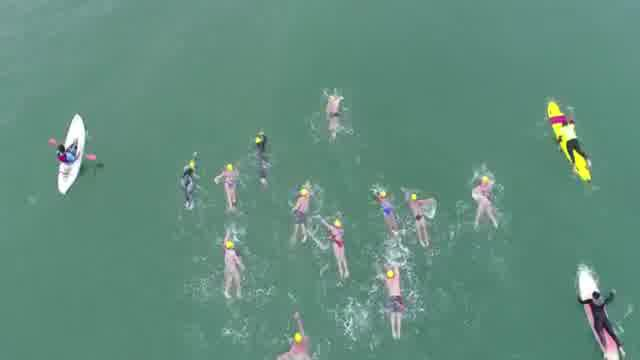swimmer: (381, 260, 408, 342), (326, 215, 356, 282), (212, 160, 244, 212), (223, 231, 244, 302), (177, 156, 208, 204), (283, 311, 314, 359), (374, 190, 402, 242), (290, 186, 312, 247), (474, 176, 499, 228), (410, 193, 432, 247), (321, 92, 345, 136), (254, 132, 273, 174)
